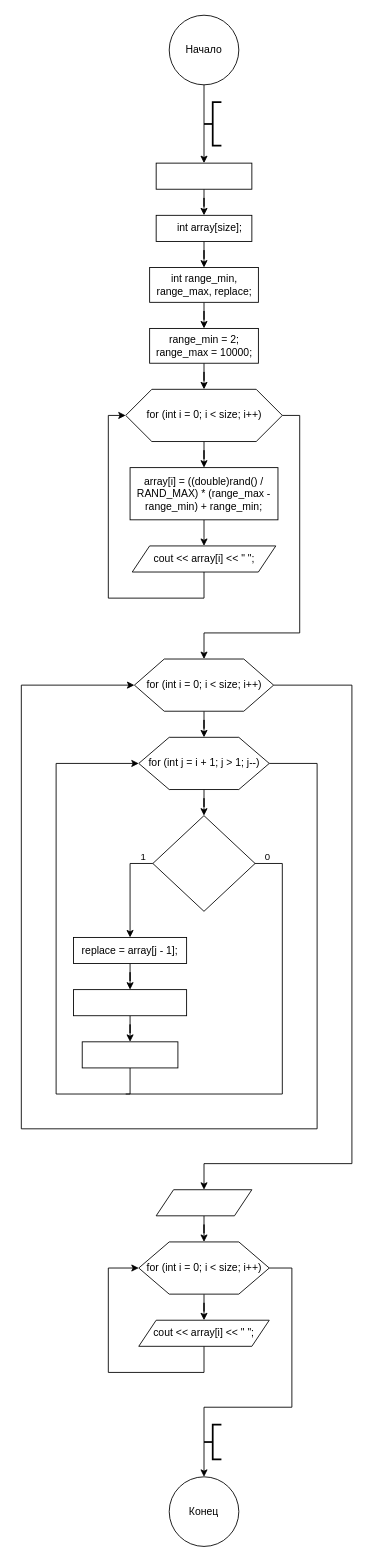
The diagram is 374 pixels wide and 1562 high, and some of its shapes have lost their labels. The centre of each missing label's shape, as x and y in pixels:
#include <iostream> using namespace std; int main(): the point at 212,123
array[j - 1] = array[j];: the point at 130,1002
array[j] = replace;: the point at 129,1054
cout << endl;: the point at 203,1202
if (array[j] < array[j - 1]): the point at 203,863
int const size = 10;: the point at 203,175
return 0; }: the point at 212,1441
